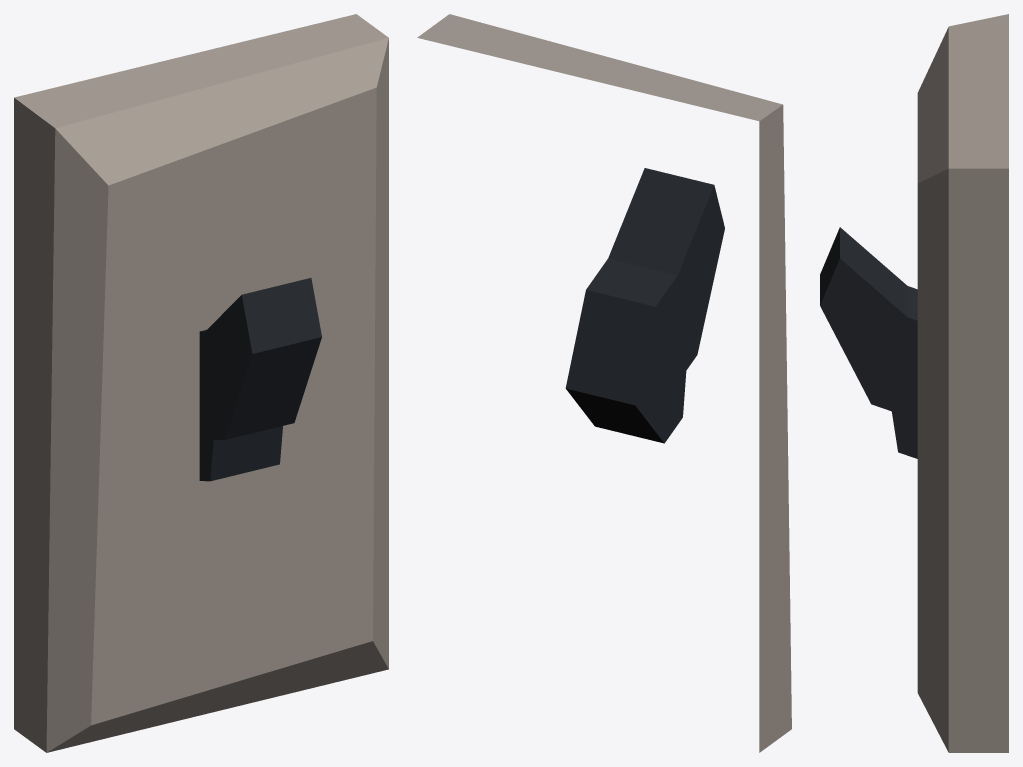
Rendered from SM_Switch_B.gltf.
3 renders of one model, left to right at view 1: azimuth 30°, elevation 25°; view 2: azimuth 150°, elevation 25°; view 3: azimuth 270°, elevation 25°, orthographic. The views are drawn at different scales.
Parts seen in each view (by area): view 1: SM_Switch_B, SM_Switch_B_Button; view 2: SM_Switch_B_Button, SM_Switch_B; view 3: SM_Switch_B, SM_Switch_B_Button.
Part boxes in pixels (x1,y1,x2,y2): SM_Switch_B: [14, 14, 388, 752]; SM_Switch_B_Button: [199, 278, 321, 481]; SM_Switch_B_Button: [565, 168, 724, 443]; SM_Switch_B: [417, 14, 791, 752]; SM_Switch_B: [917, 14, 1008, 752]; SM_Switch_B_Button: [820, 227, 917, 458].
Size of the model in its own units: 0.127 by 0.2238 by 0.0656.
1 material, 1 textured.
